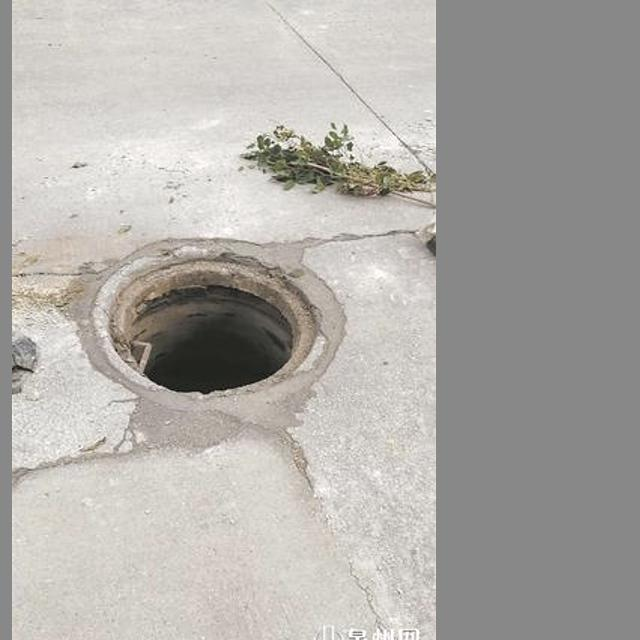lose: (70, 233, 353, 409)
